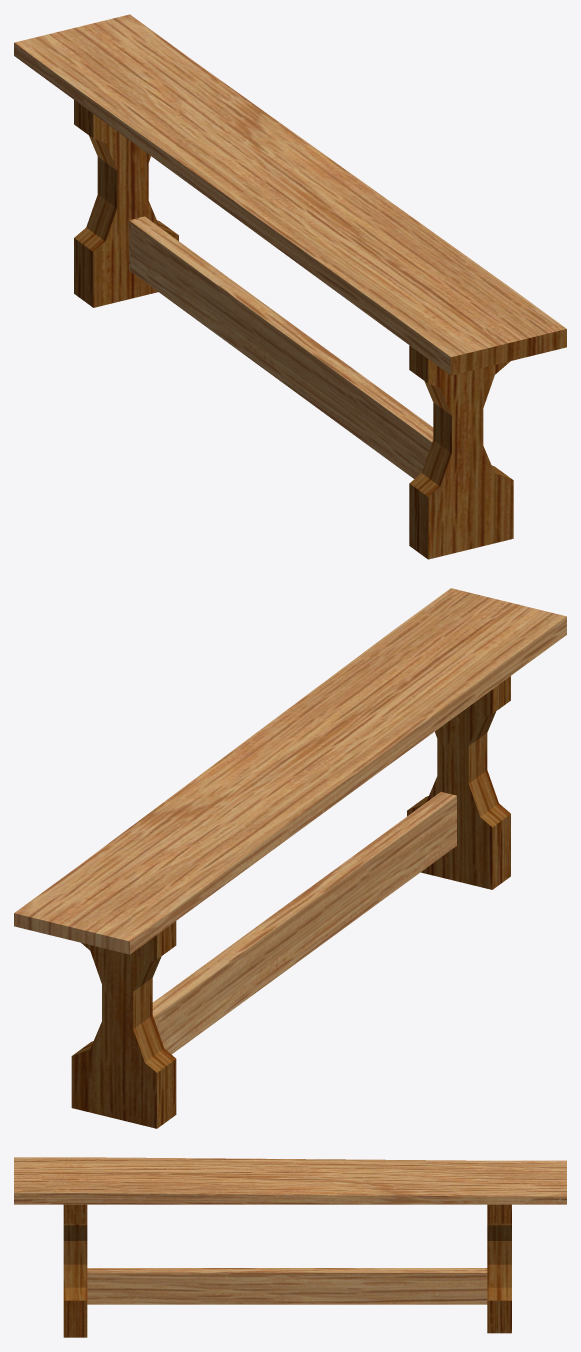
File: cadeira.fbx
3 renders of one model, top to bottom at view 1: azimuth 30°, elevation 25°; view 2: azimuth 150°, elevation 25°; view 3: azimuth 270°, elevation 25°, orthographic. The views are drawn at different scales.
Parts seen in each view (by area): view 1: Cadeira; view 2: Cadeira; view 3: Cadeira.
Part boxes in pixels (bbox=[...]): Cadeira: bbox=[14, 14, 566, 559]; Cadeira: bbox=[14, 588, 566, 1128]; Cadeira: bbox=[14, 1157, 566, 1337].
Size of the model in its own units: 57.19 by 111 by 373.
